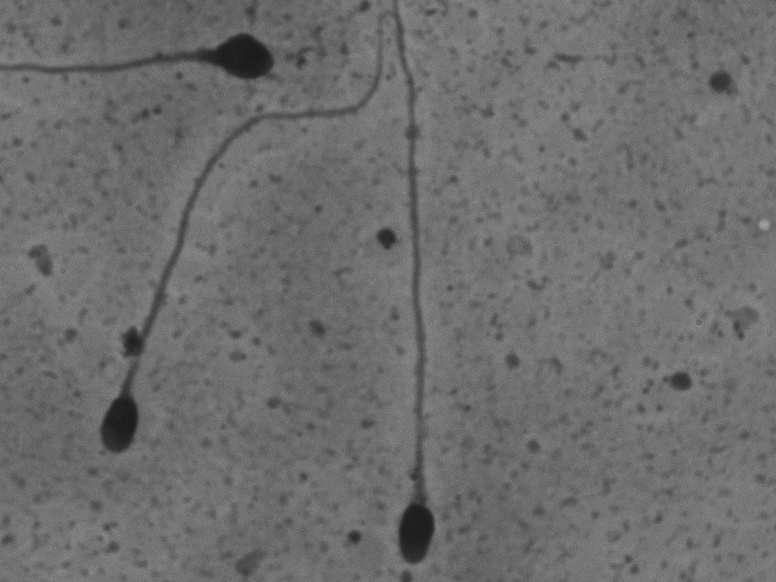Abnormal: (381, 9, 460, 570), (15, 8, 293, 97)
Normal: (80, 4, 392, 462)
